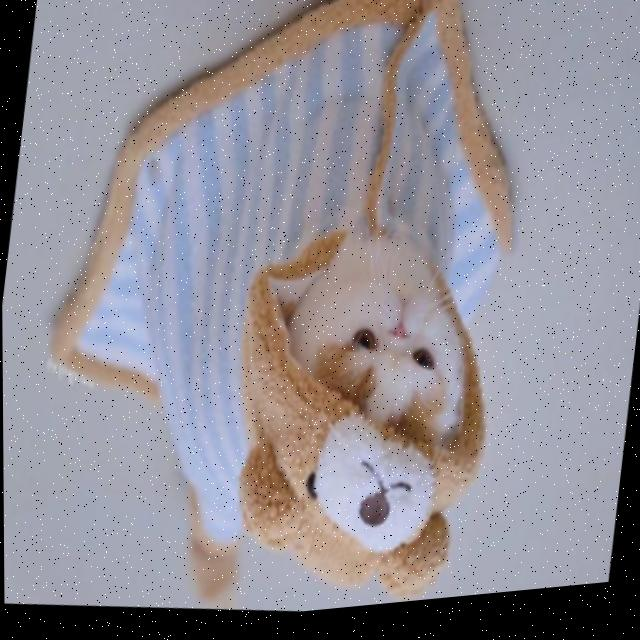Cats: (286, 234, 480, 464)
